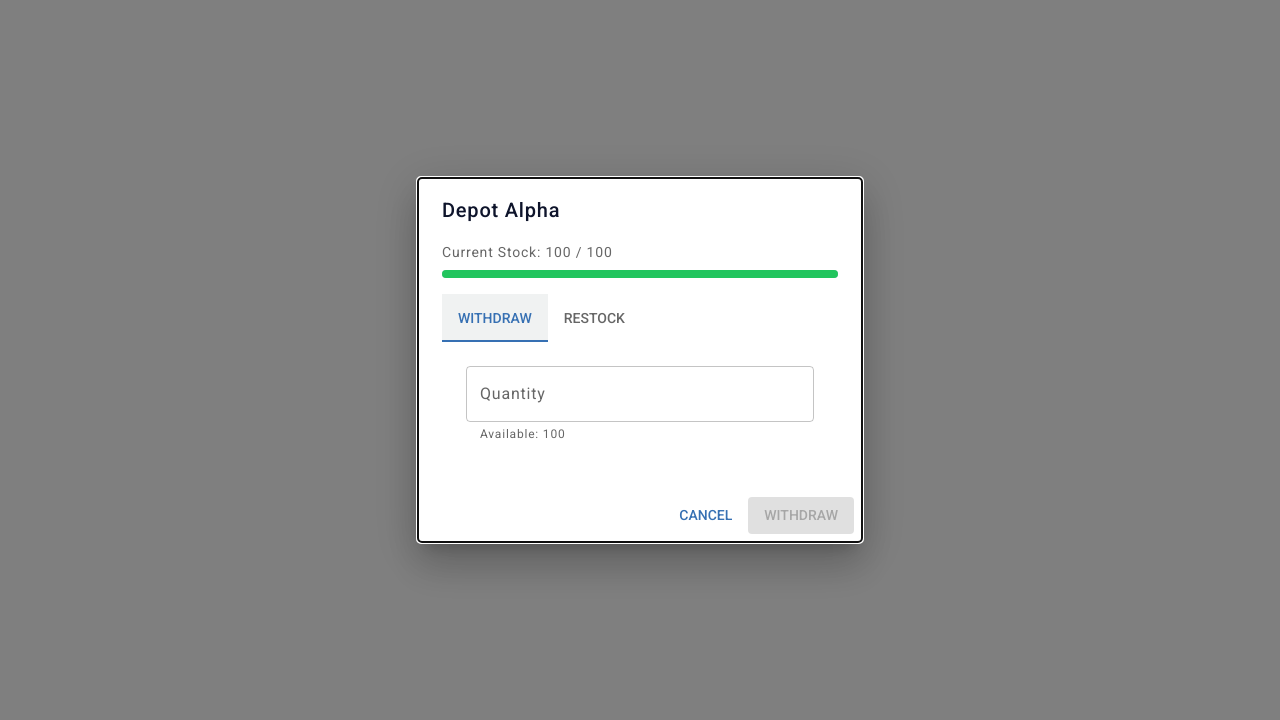
Test: StockActionDialog › shows disabled field when at max capacity on restock tab
The width and height of the screenshot is (1280, 720).
expect the heading "Depot Alpha" is shown: met, box [442,198,560,222]
Click the tab "Restock" at [594, 318], box [548,294,641,342]
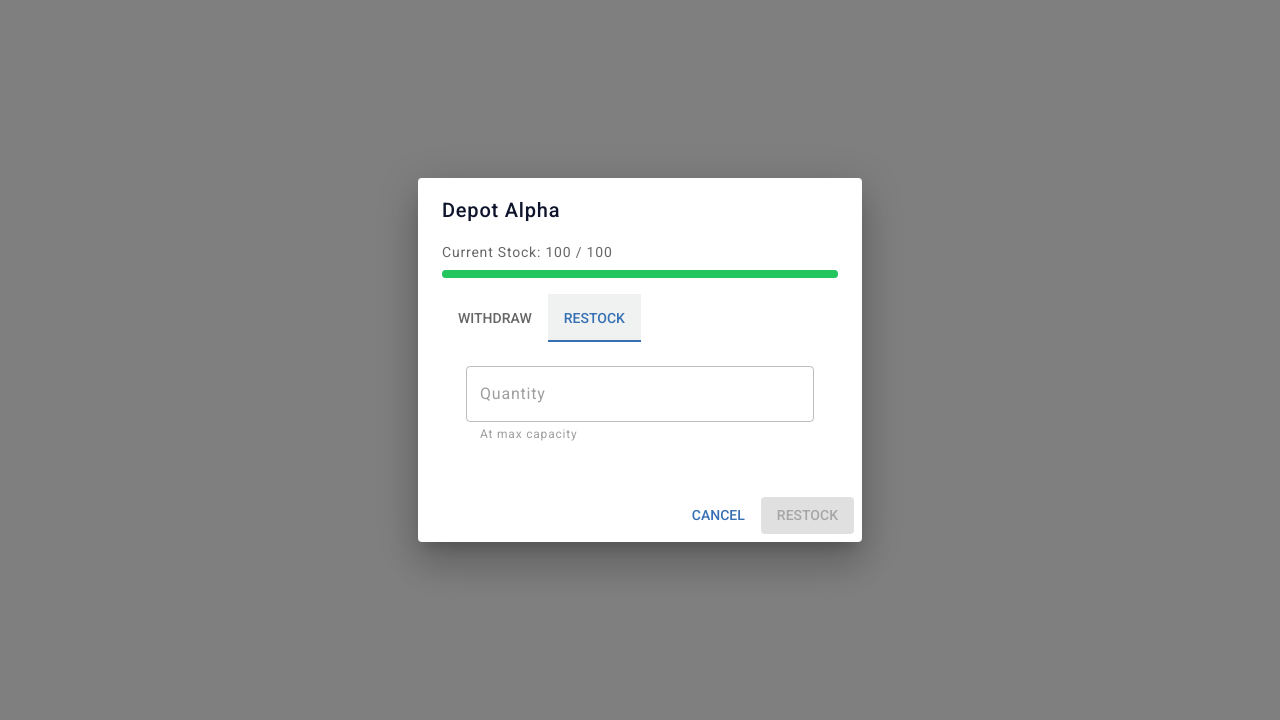
expect the text "At max capacity" is shown: met, box [480,427,578,441]
expect the number field is disabled: met, box [466,366,814,422]
